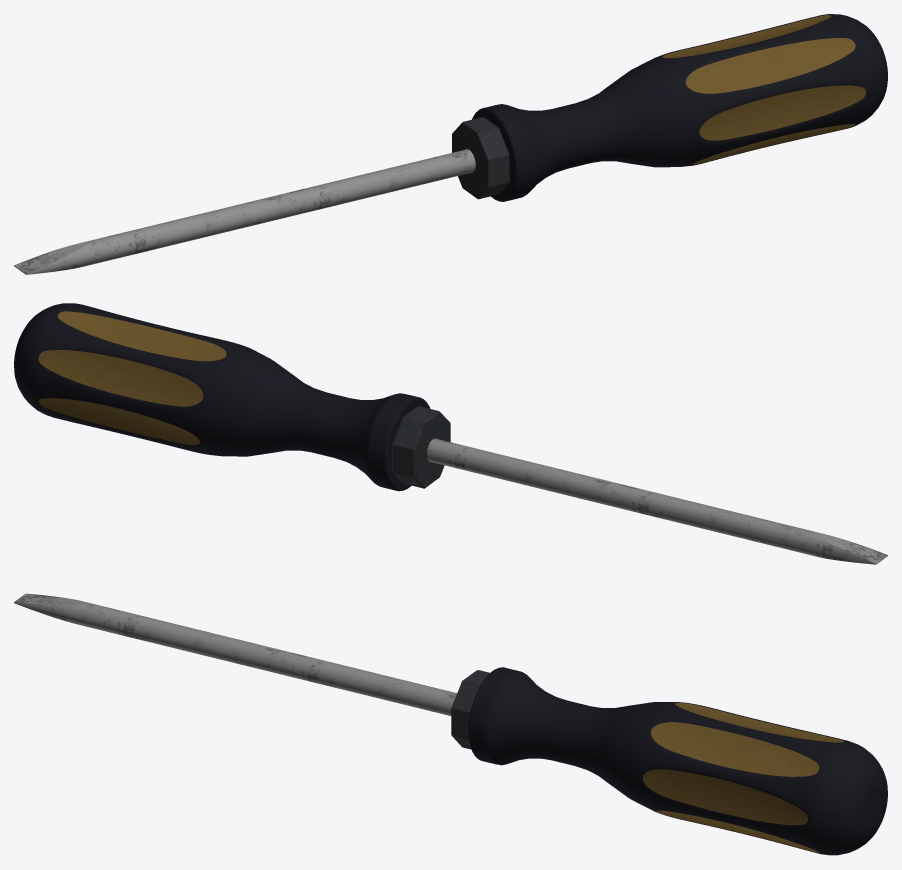
The model's file is ScrewDriver.glb.
The picture shows the model from 3 angles, top to bottom: view 1: azimuth 30°, elevation 25°; view 2: azimuth 150°, elevation 25°; view 3: azimuth 330°, elevation 25°; orthographic projection.
Visible parts, largest first — view 1: ScrewDriver; view 2: ScrewDriver; view 3: ScrewDriver.
Boxes of the visible parts, x1,y1,x2,y2 form: ScrewDriver: [14, 14, 887, 274]; ScrewDriver: [14, 303, 887, 564]; ScrewDriver: [14, 593, 887, 855].
Size of the model in its own units: 0.2645 by 0.0313 by 0.0312.
1 material, 1 textured.
